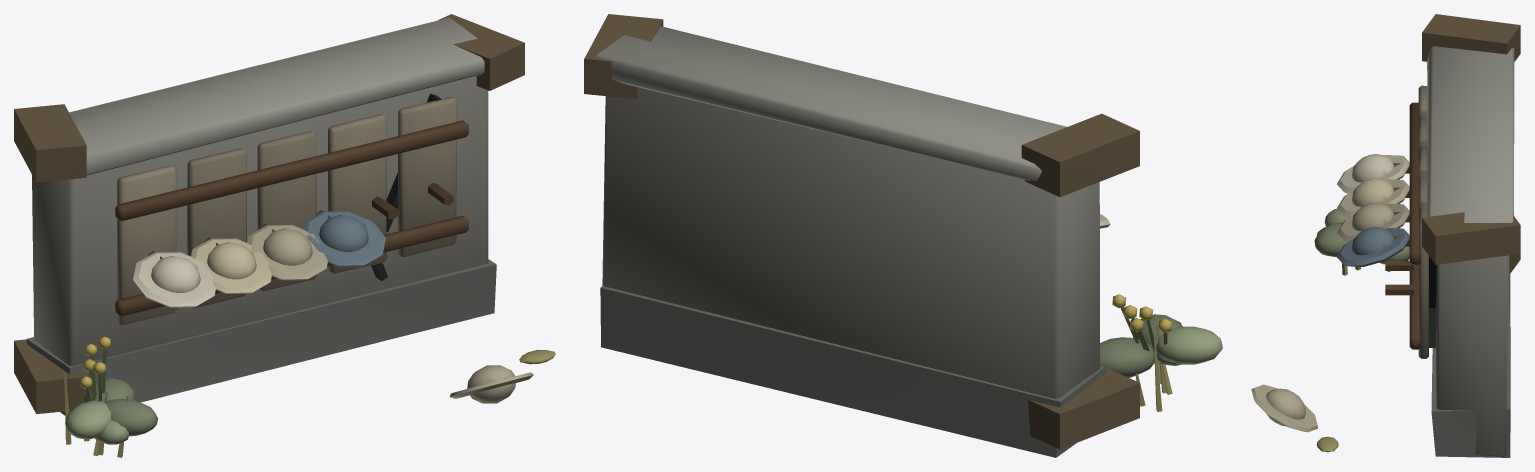
File: hardhat_rack_b.glb
3 renders of one model, left to right at view 1: azimuth 30°, elevation 25°; view 2: azimuth 150°, elevation 25°; view 3: azimuth 270°, elevation 25°, orthographic. The views are drawn at different scales.
Parts seen in each view (by area): view 1: Surface; view 2: Surface; view 3: Surface.
Part boxes in pixels (x1,y1,x2,y2): Surface: (14,14,555,457); Surface: (584,14,1222,457); Surface: (1251,14,1520,457).
Size of the model in its own units: 5.46 by 2.9 by 2.81.
